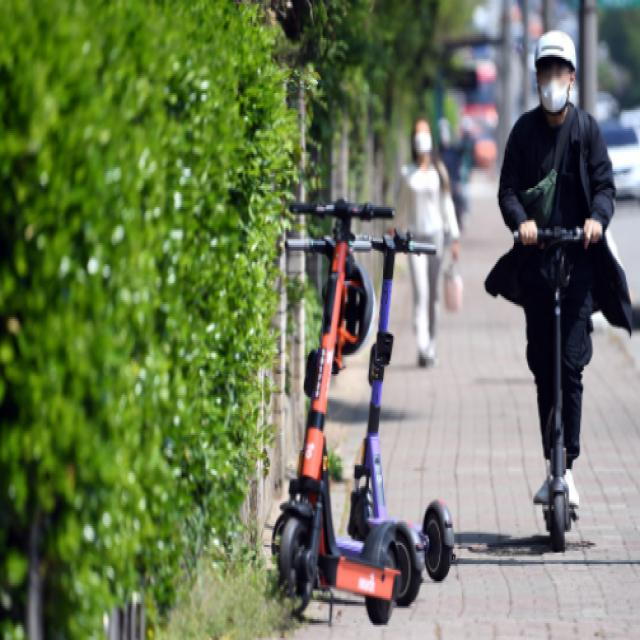helmet: (481, 14, 640, 552)
